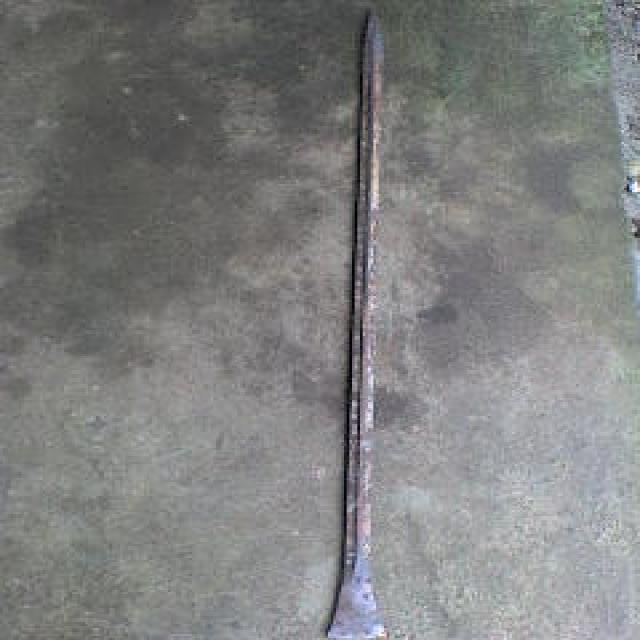Linggis: (330, 8, 394, 640)
